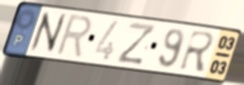4: (92, 19, 120, 63)
9: (157, 27, 185, 70)
N: (27, 10, 69, 54)
R: (53, 13, 95, 61), (177, 29, 218, 74)
Z: (114, 21, 158, 67)
